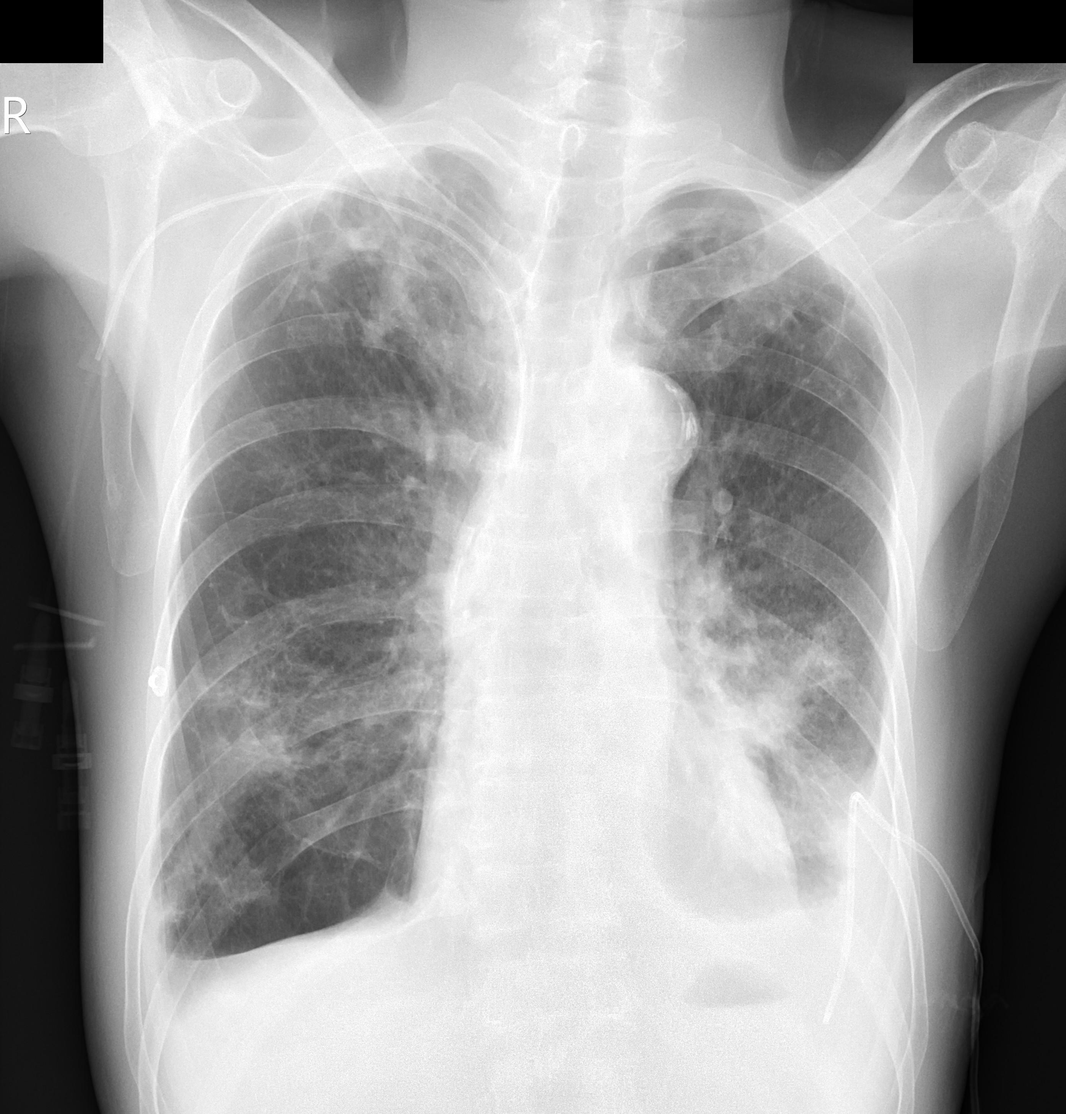Aortic enlargement: (572, 360, 696, 533)
Pleural thickening: (293, 121, 456, 208)
Pulmonary fibrosis: (167, 575, 420, 904), (263, 136, 494, 407), (633, 199, 861, 378)
